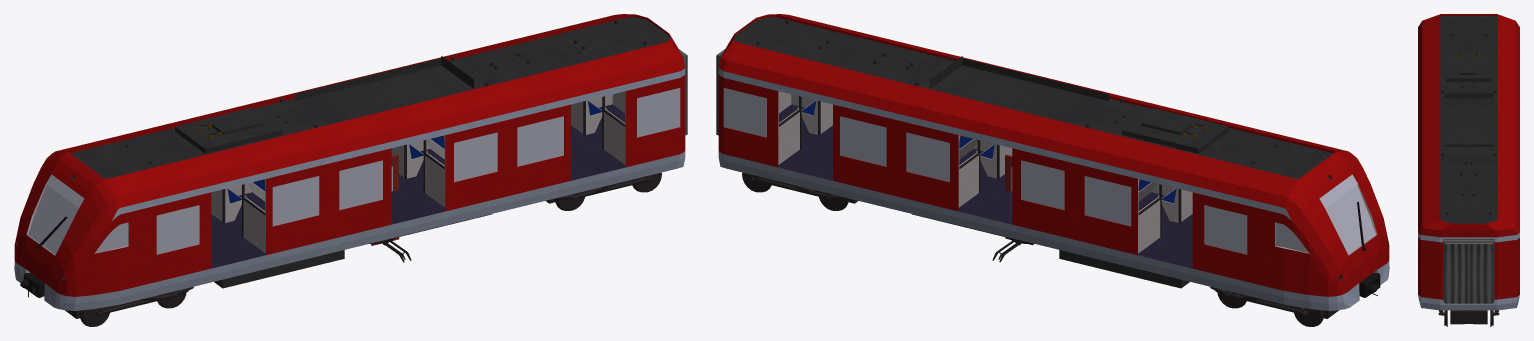
The model's file is wagon_locomotive.glb.
3 views of the same model, side by side, from view 1: azimuth 30°, elevation 25°; view 2: azimuth 150°, elevation 25°; view 3: azimuth 270°, elevation 25° (orthographic). The views are drawn at different scales.
Parts seen in each view (by area): view 1: Wagon_half, Scheibenwischer; view 2: Wagon_half, Scheibenwischer; view 3: Wagon_half.
Part boxes in pixels (x1=…): Wagon_half: x1=14, y1=14, x2=687, y2=326; Scheibenwischer: x1=20, y1=216, x2=67, y2=297; Wagon_half: x1=716, y1=14, x2=1389, y2=326; Scheibenwischer: x1=1357, y1=201, x2=1380, y2=297; Wagon_half: x1=1418, y1=14, x2=1519, y2=326.
Size of the model in its own units: 16.9 by 3.98 by 3.07.
19 materials, 13 textured.
